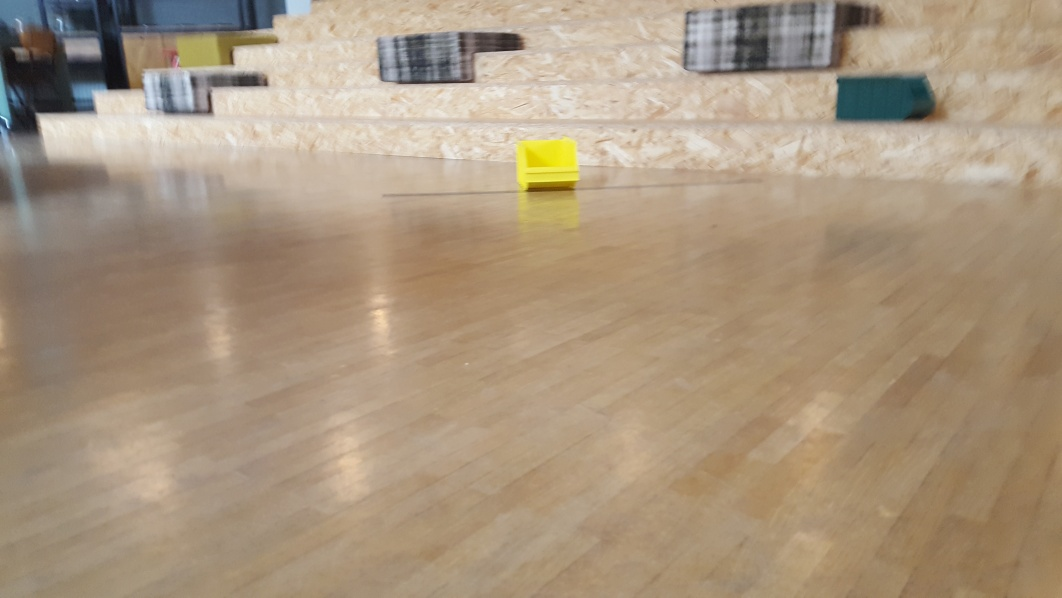tray: (832, 74, 938, 121), (515, 135, 584, 190)
